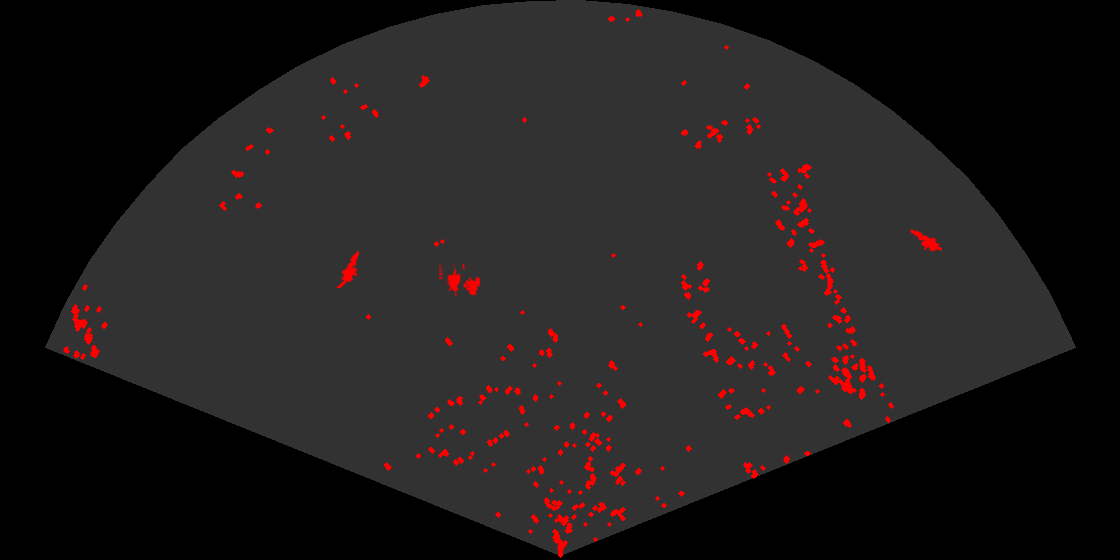cage: (439, 264, 482, 298)
frogman: (334, 249, 361, 288), (908, 228, 942, 253)
